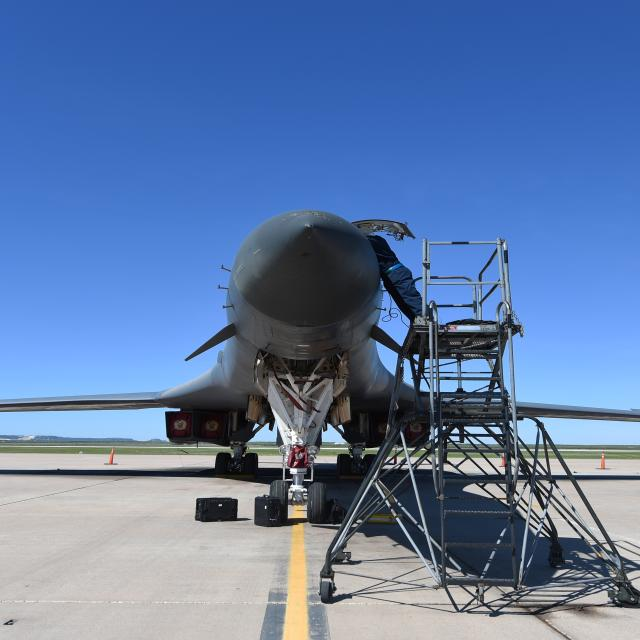MIL_Plane: (0, 209, 640, 523)
